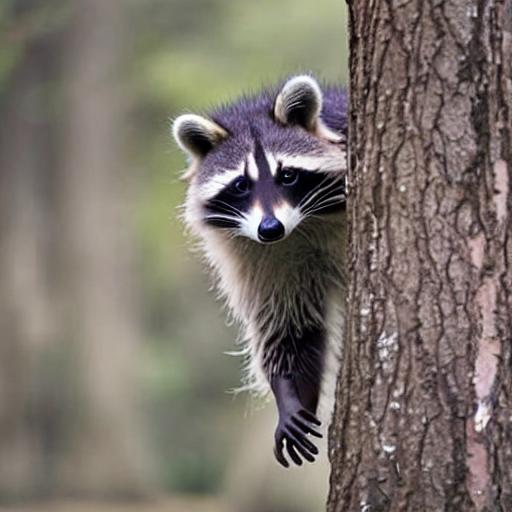raccoon: (170, 67, 350, 334)
